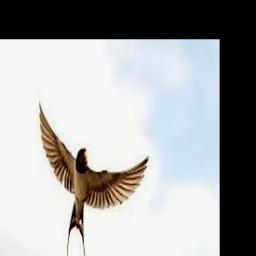Swallow: (38, 101, 148, 256)
